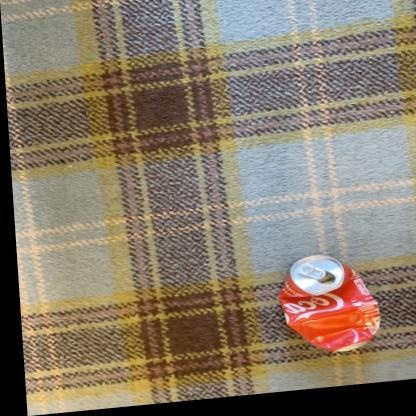trash: (279, 255, 379, 350)
